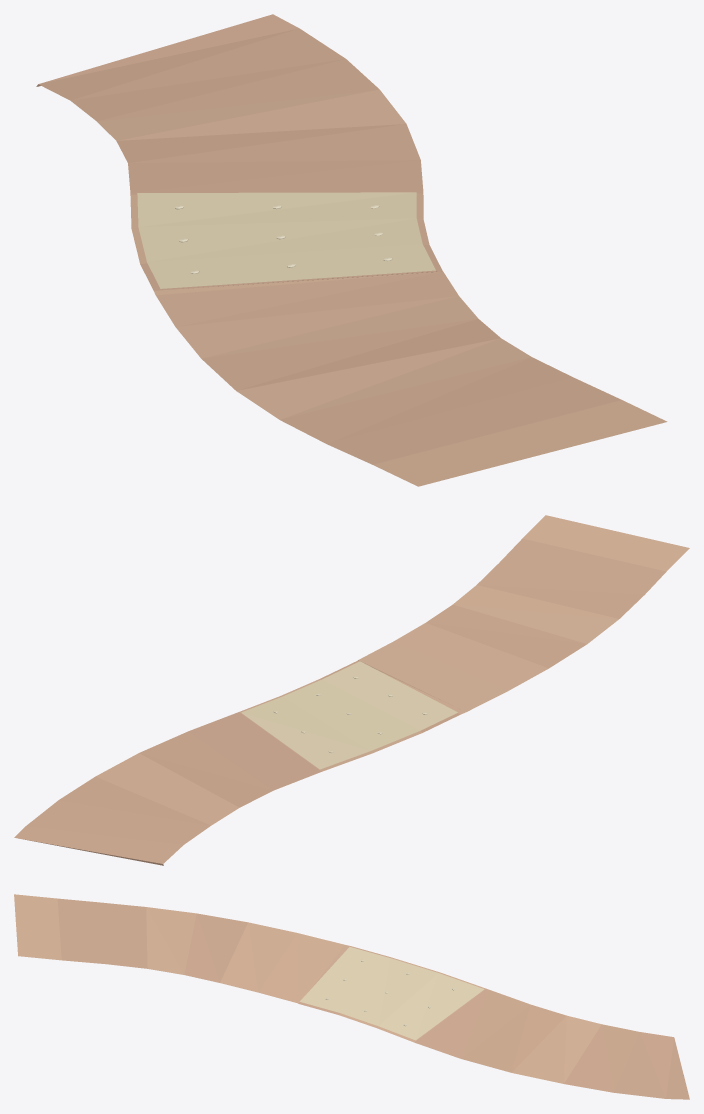
The model's file is tramo_pista_1.glb.
The picture shows the model from 3 angles, top to bottom: view 1: azimuth 30°, elevation 25°; view 2: azimuth 150°, elevation 25°; view 3: azimuth 270°, elevation 25°; orthographic projection. The views are drawn at different scales.
Visible parts, largest first — view 1: tramo_pista_1; view 2: tramo_pista_1; view 3: tramo_pista_1.
Part boxes in pixels (x1,y1,x2,y2): tramo_pista_1: (36, 14, 667, 486); tramo_pista_1: (14, 515, 689, 865); tramo_pista_1: (14, 894, 689, 1099).
Size of the model in its own units: 17.87 by 4.8 by 38.75.
